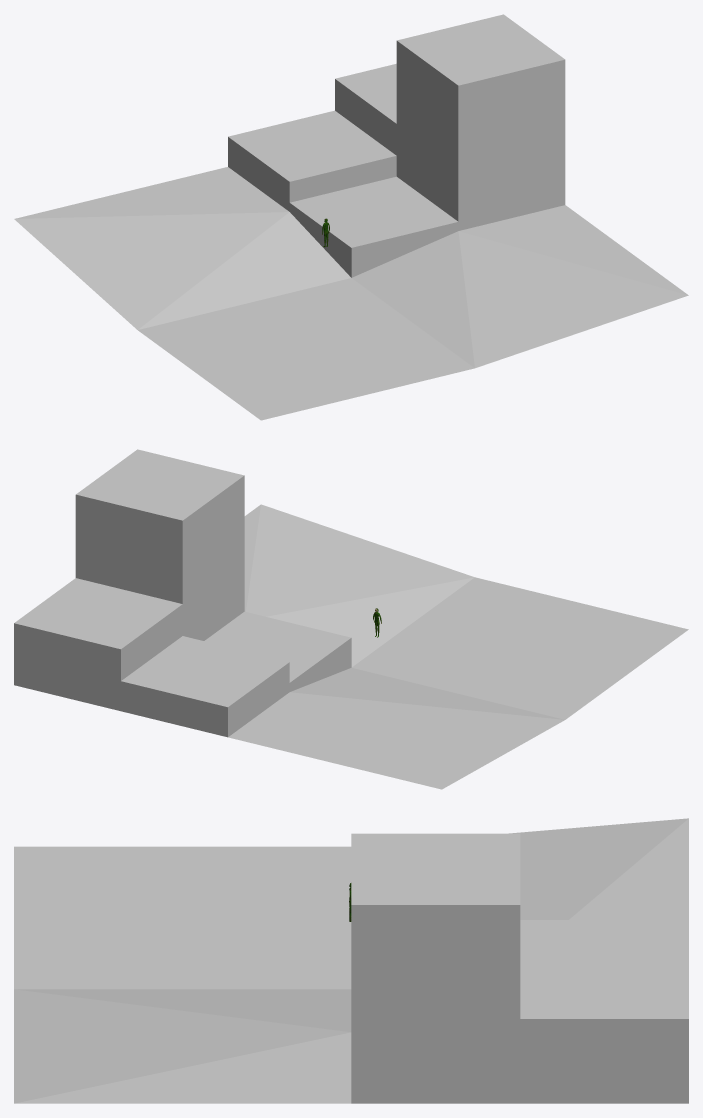
File: testmap.obj
The picture shows the model from 3 angles, top to bottom: view 1: azimuth 30°, elevation 25°; view 2: azimuth 150°, elevation 25°; view 3: azimuth 270°, elevation 25°; orthographic projection. The views are drawn at different scales.
Visible parts, largest first — view 1: Plane; view 2: Plane; view 3: Plane.
Part boxes in pixels (left/top/right/bottom): Plane: left=14, top=14, right=688, bottom=420; Plane: left=14, top=449, right=688, bottom=789; Plane: left=14, top=818, right=688, bottom=1103.
Bounding box in the file's own units: 34.78 × 12.9 × 34.78.
2 materials, 1 textured.
